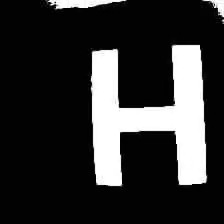LTR_H: (84, 38, 210, 188)
